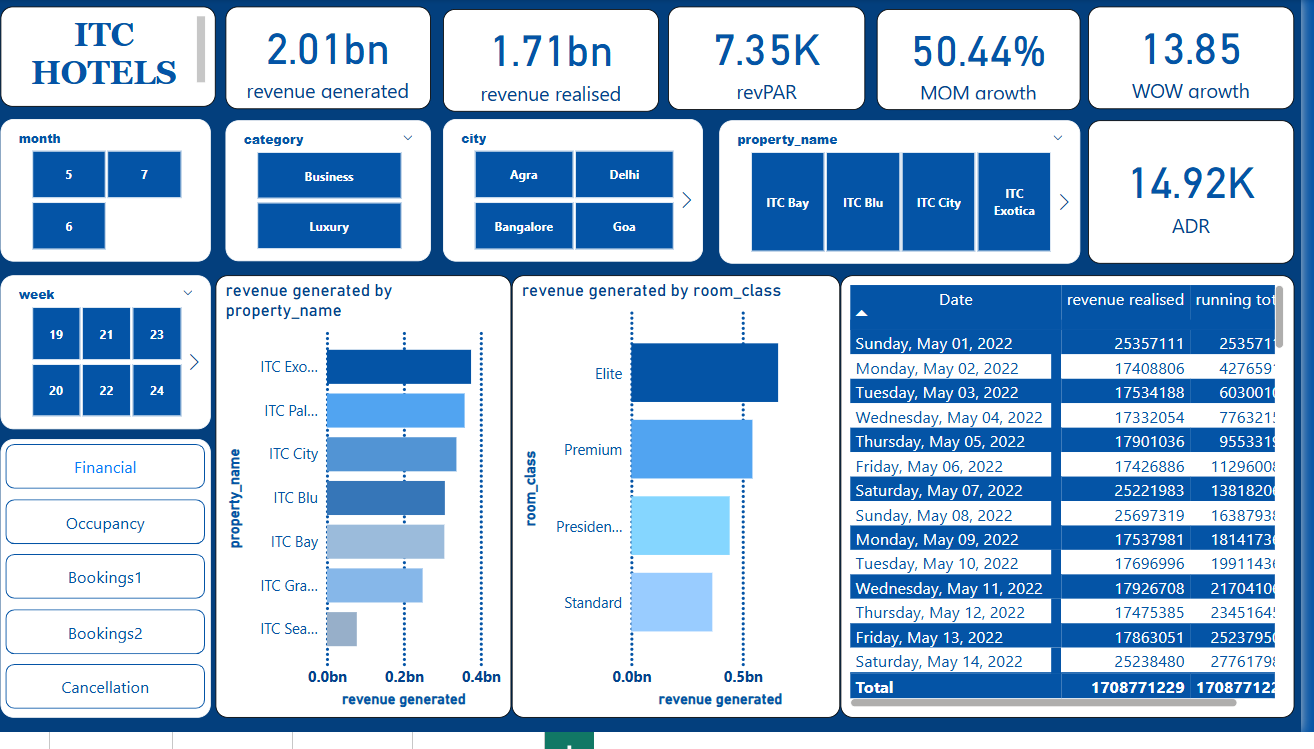

The page's visual inventory and layout, read from the dashboard file:
{"tool":"powerbi","page":{"name":"Financial","canvas":[1280,720],"ordinal":0},"visuals":[{"type":"barChart","fields":{"Y":["Table.revenue generated"],"Category":["hotels.property_name"]},"box":[213.5,271.2,290.8,434.4],"z":0},{"type":"card","fields":{"Values":["Table.revenue generated"]},"box":[223.3,7.4,201.2,100.6],"z":1000},{"type":"card","fields":{"Values":["Table.revenue realised"]},"box":[436.8,9.8,212.3,100.6],"z":2000},{"type":"barChart","fields":{"Y":["Table.revenue generated"],"Category":["rooms.room_class"]},"box":[504.3,271.2,322.7,434.4],"z":3000},{"type":"pivotTable","fields":{"Rows":["calender.Date"],"Values":["Table.revenue realised","Table.running total"]},"box":[827,271.2,445.4,434.4],"z":4000},{"type":"card","fields":{"Values":["Table.mom growth"]},"box":[862,10,200,99.4],"z":5000},{"type":"card","fields":{"Values":["Table.wow growth"]},"box":[1069.9,7.4,202.5,100.6],"z":6000},{"type":"slicer","fields":{"Values":["calender.month"]},"box":[2.5,117.8,206.1,139.9],"z":7000},{"type":"slicer","fields":{"Values":["calender.weeknum"]},"box":[2.5,271.2,206.1,150.9],"z":8000},{"type":"card","fields":{"Values":["Table.ADR"]},"box":[1069.9,119,202.5,141.1],"z":9000},{"type":"card","fields":{"Values":["Table.revPAR"]},"box":[657.7,7.4,193.9,101.8],"z":10000},{"type":"textbox","box":[2.5,7.4,211,98.2],"z":11000},{"type":"pageNavigator","box":[2.5,431.9,206.1,273.6],"z":12000},{"type":"slicer","fields":{"Values":["hotels.category"]},"box":[223.3,119,201.2,138.7],"z":13000},{"type":"slicer","fields":{"Values":["hotels.city"]},"box":[436.8,117.8,255.2,139.9],"z":14000},{"type":"slicer","fields":{"Values":["hotels.property_name"]},"box":[708,119,354.6,141.1],"z":15000},{"type":"actionButton","box":[0,0,100,40],"z":16000}]}

Visuals, with their boxes in screenshot pixels (x1, y1, x2, y2), scaled from the page's 1280x720 canvas onto the 1314x749 screenshot:
barChart - Table.revenue generated x hotels.property_name: x1=219, y1=282, x2=518, y2=734
card - Table.revenue generated: x1=229, y1=8, x2=436, y2=112
card - Table.revenue realised: x1=448, y1=10, x2=666, y2=115
barChart - Table.revenue generated x rooms.room_class: x1=518, y1=282, x2=849, y2=734
pivotTable - calender.Date x Table.revenue realised: x1=849, y1=282, x2=1306, y2=734
card - Table.mom growth: x1=885, y1=10, x2=1090, y2=114
card - Table.wow growth: x1=1098, y1=8, x2=1306, y2=112
slicer - calender.month: x1=3, y1=123, x2=214, y2=268
slicer - calender.weeknum: x1=3, y1=282, x2=214, y2=439
card - Table.ADR: x1=1098, y1=124, x2=1306, y2=271
card - Table.revPAR: x1=675, y1=8, x2=874, y2=114
textbox: x1=3, y1=8, x2=219, y2=110
pageNavigator: x1=3, y1=449, x2=214, y2=734
slicer - hotels.category: x1=229, y1=124, x2=436, y2=268
slicer - hotels.city: x1=448, y1=123, x2=710, y2=268
slicer - hotels.property_name: x1=727, y1=124, x2=1091, y2=271
actionButton: x1=0, y1=0, x2=103, y2=42
